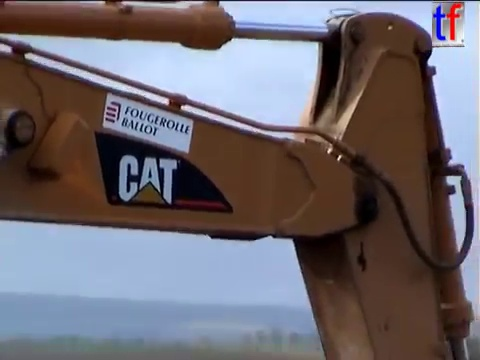excavator: (1, 1, 477, 360)
